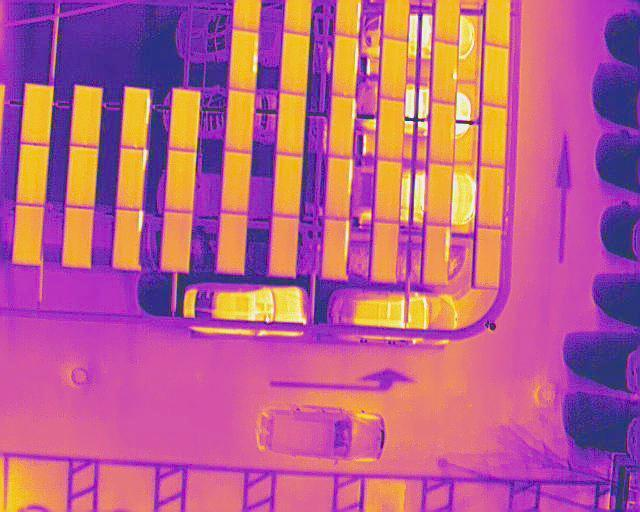Cell: (433, 42, 458, 104)
No-Anomaly: (67, 146, 98, 208), (161, 212, 192, 272), (64, 207, 94, 269), (221, 153, 251, 214), (22, 86, 52, 146), (18, 145, 47, 207), (166, 150, 195, 211), (477, 166, 505, 229), (226, 90, 254, 153), (170, 91, 200, 149), (217, 214, 246, 273), (73, 88, 101, 147), (283, 31, 308, 96), (270, 217, 297, 277), (375, 160, 401, 222), (16, 205, 43, 264), (372, 223, 399, 282), (427, 163, 452, 226), (379, 99, 404, 162), (382, 38, 407, 100), (276, 154, 300, 217), (431, 102, 455, 165), (280, 93, 304, 156), (476, 227, 500, 289), (484, 45, 508, 106), (482, 107, 505, 168)
Unclassified: (117, 148, 147, 209), (113, 209, 143, 269), (229, 31, 258, 92), (122, 88, 150, 148), (423, 225, 450, 284), (327, 157, 353, 218), (331, 97, 357, 157), (324, 219, 349, 279), (334, 37, 358, 97)
